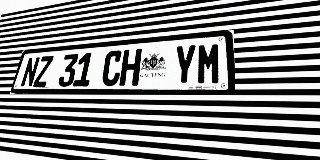1: (73, 52, 95, 87)
3: (57, 54, 79, 87)
C: (101, 50, 123, 86)
H: (119, 49, 142, 86)
M: (196, 42, 221, 85)
N: (20, 57, 40, 87)
Y: (172, 44, 197, 85)
Z: (33, 56, 54, 87)
